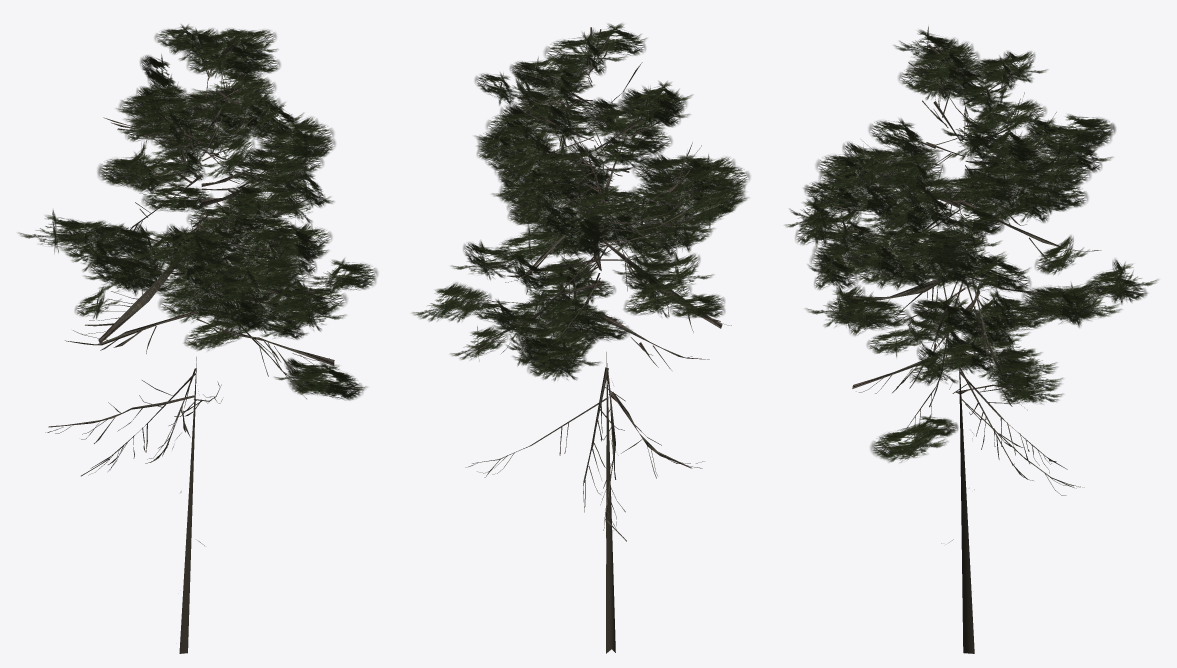
Rendered from tree-v2-mobile.glb.
The picture shows the model from 3 angles, left to right: view 1: azimuth 30°, elevation 25°; view 2: azimuth 150°, elevation 25°; view 3: azimuth 270°, elevation 25°; orthographic projection. The views are drawn at different scales.
Parts seen in each view (by area): view 1: tree-v2-mobile; view 2: tree-v2-mobile; view 3: tree-v2-mobile.
Boxes of the visible parts, left/top/right/bottom form: tree-v2-mobile: left=18, top=24, right=377, bottom=653; tree-v2-mobile: left=412, top=23, right=750, bottom=653; tree-v2-mobile: left=784, top=26, right=1158, bottom=653.
Size of the model in its own units: 5.88 by 12.01 by 6.58.
Materials: 4 (4 with a texture image).
